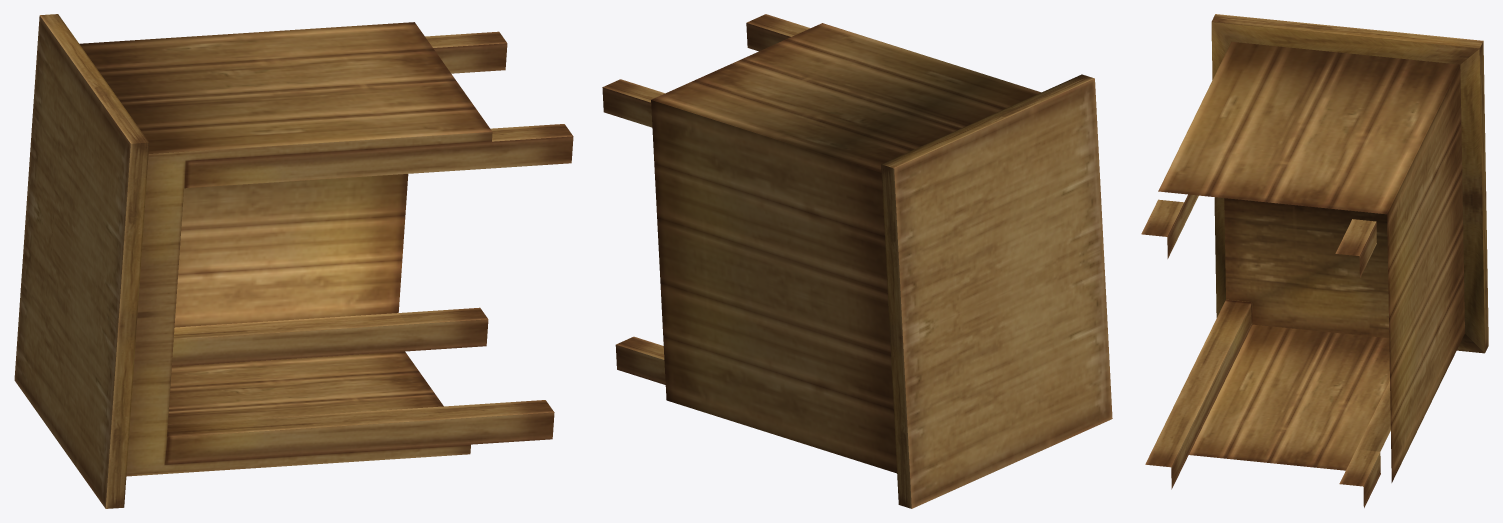
The model's file is a_SWGtdesk01b01.glb.
3 views of the same model, side by side, from view 1: azimuth 30°, elevation 25°; view 2: azimuth 150°, elevation 25°; view 3: azimuth 270°, elevation 25° (orthographic). The views are drawn at different scales.
Visible parts, largest first — view 1: a_SWGtdesk01b01; view 2: a_SWGtdesk01b01; view 3: a_SWGtdesk01b01.
Boxes of the visible parts, x1,y1,x2,y2 form: a_SWGtdesk01b01: (14, 14, 573, 508); a_SWGtdesk01b01: (602, 14, 1112, 508); a_SWGtdesk01b01: (1141, 14, 1488, 507).
Bounding box in the file's own units: 1.35 × 0.9941 × 0.9925.
1 material, 1 textured.
